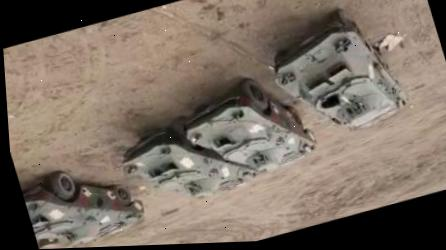tank: (258, 0, 416, 149), (171, 64, 324, 192), (111, 99, 263, 217), (18, 154, 143, 250)
